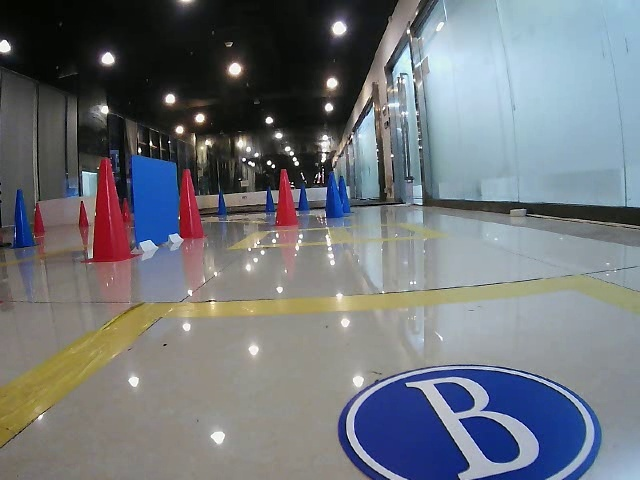B: (339, 365, 595, 478)
